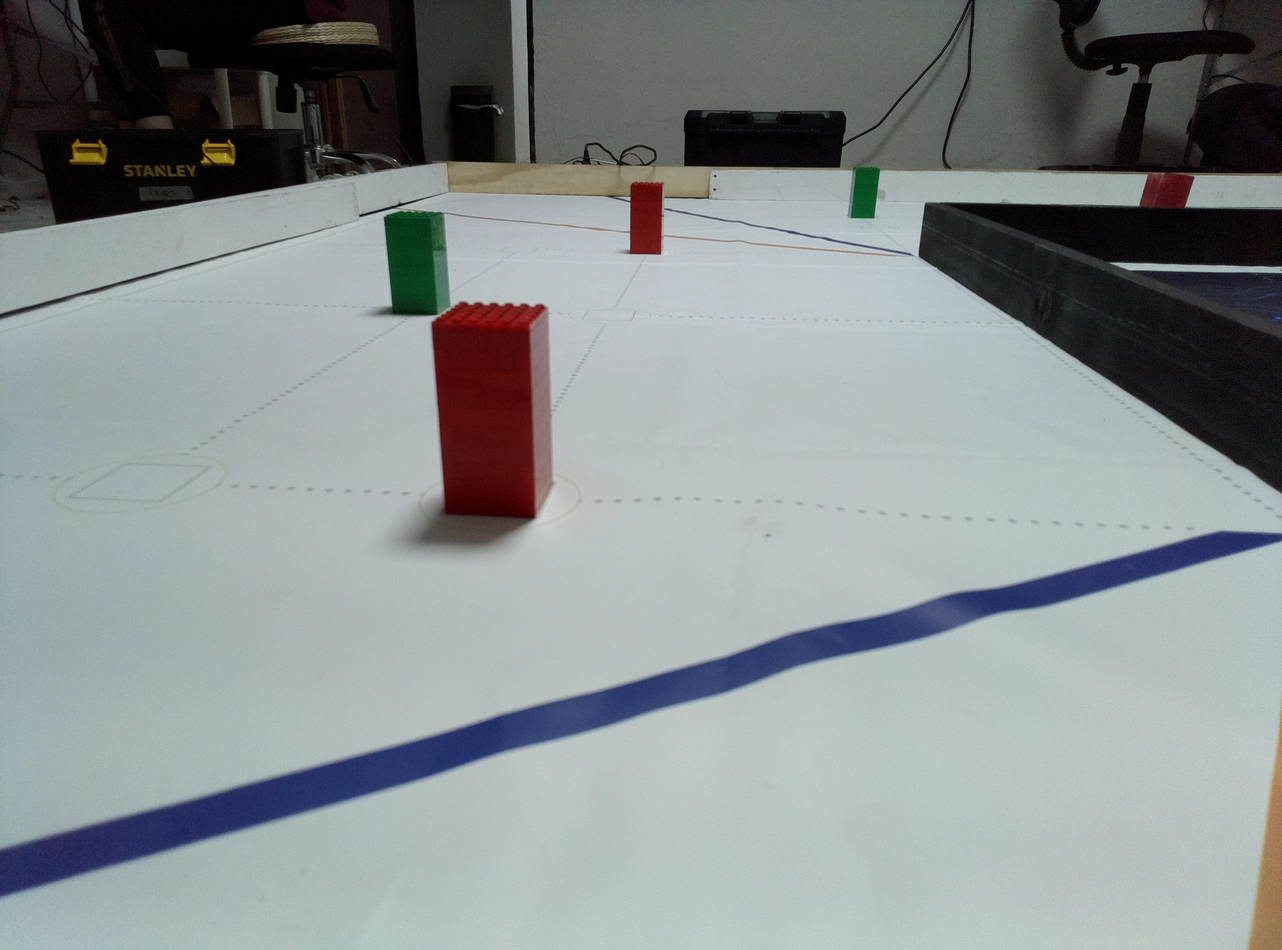greenbox: (382, 209, 453, 317), (847, 166, 881, 220)
redbox: (429, 300, 558, 523), (628, 181, 665, 256), (1136, 171, 1197, 209)
